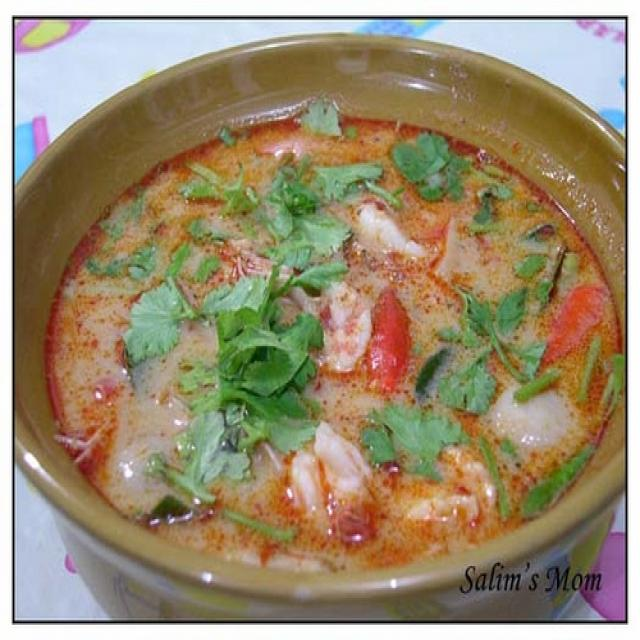汤锅炖物: (59, 101, 616, 586)
